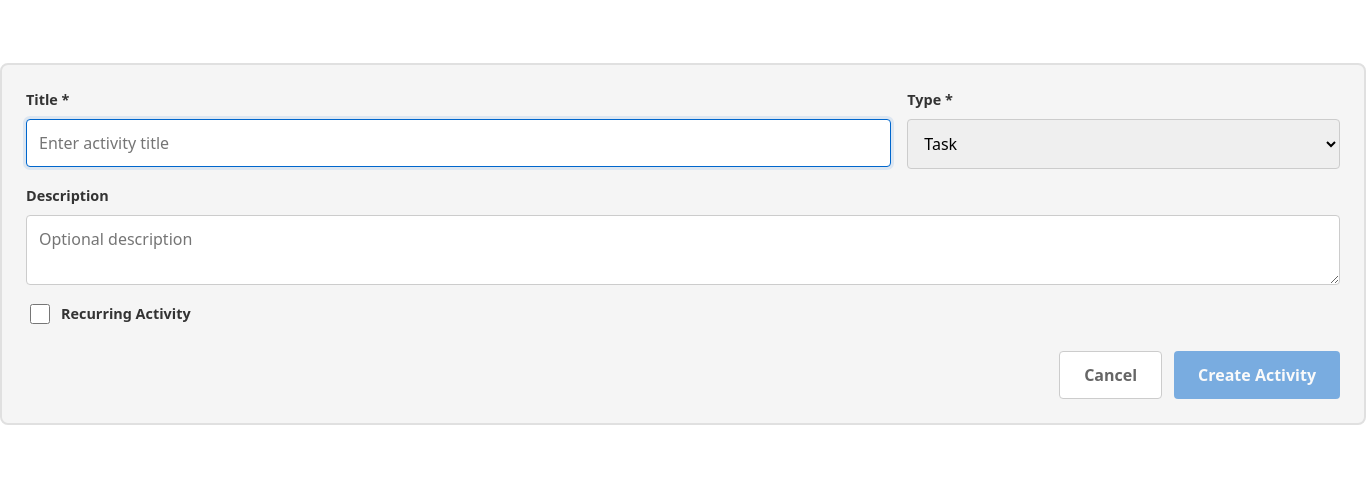
ActivityEditor › shows the recurrence type dropdown only when recurring is checked
Expected: the field labelled "Recurrence Type" is not shown
// Check the recurring checkbox
Click the checkbox: click(40, 314) [30, 304, 50, 324]
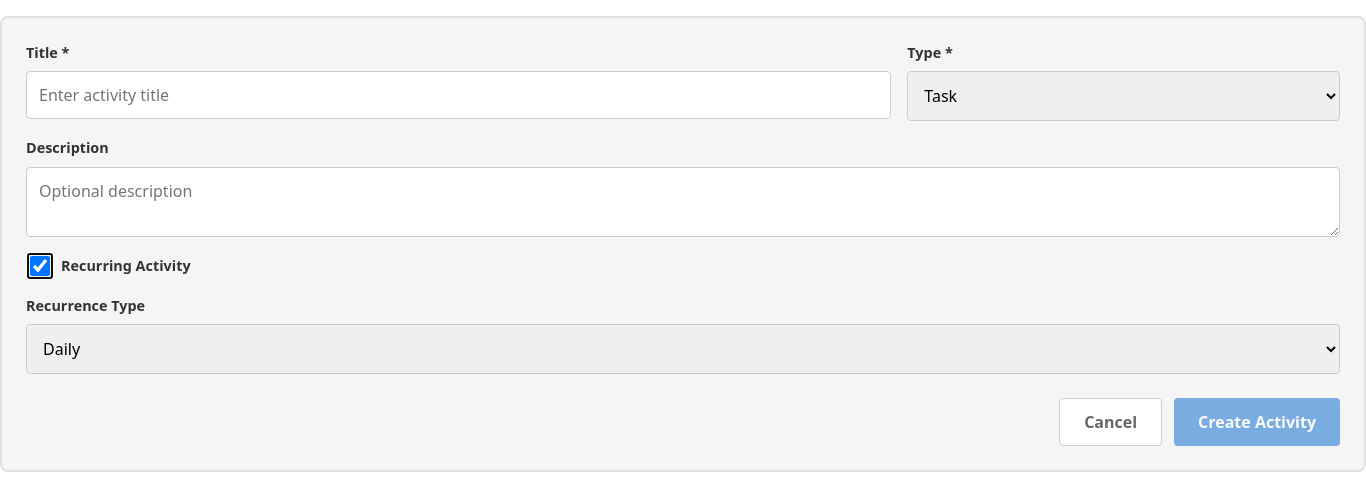
Expected: the dropdown labelled "Recurrence Type" is shown, [26, 324, 1340, 374]
